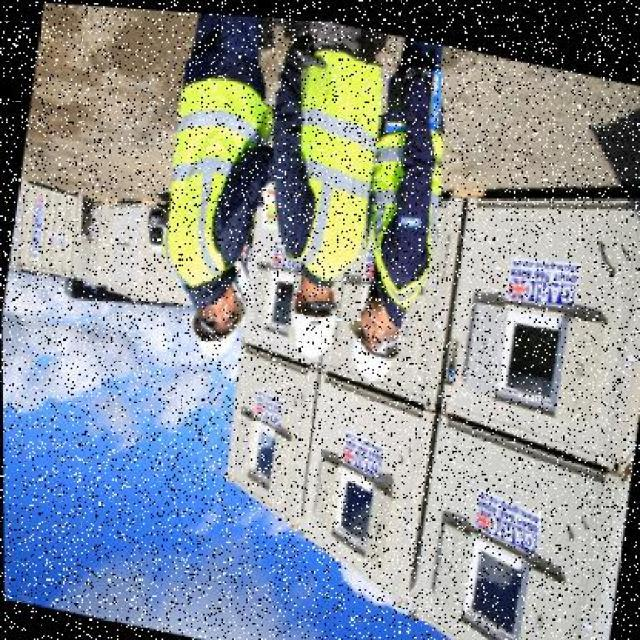helmet: (333, 309, 404, 382), (185, 280, 247, 360), (280, 286, 342, 358)
vest: (271, 37, 391, 277), (157, 73, 246, 270), (354, 116, 448, 301)
